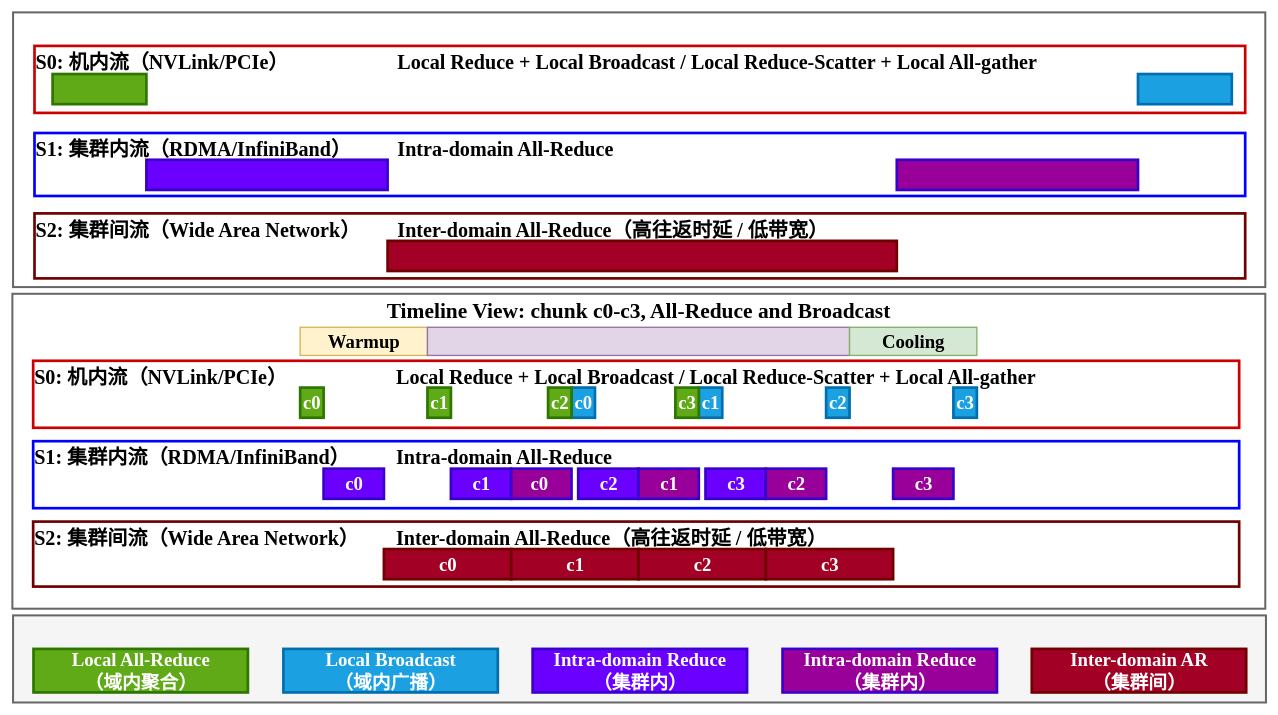
Image size: 1278x715. Some labels were removed from this diagram. Here are the shapes that lost their labels. From the top down, the box of each, then its label:
(12, 11, 1266, 288): Timeline View: CollNet
(426, 326, 850, 356): Pipelining
(12, 614, 1267, 703): Legend and Mapping
